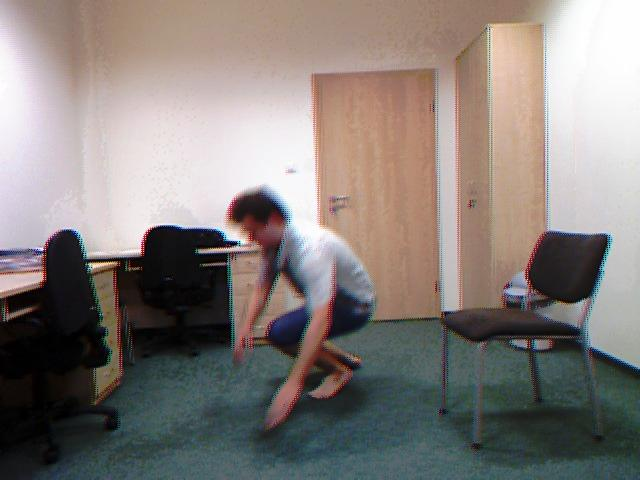near-fall: (218, 186, 394, 434)
